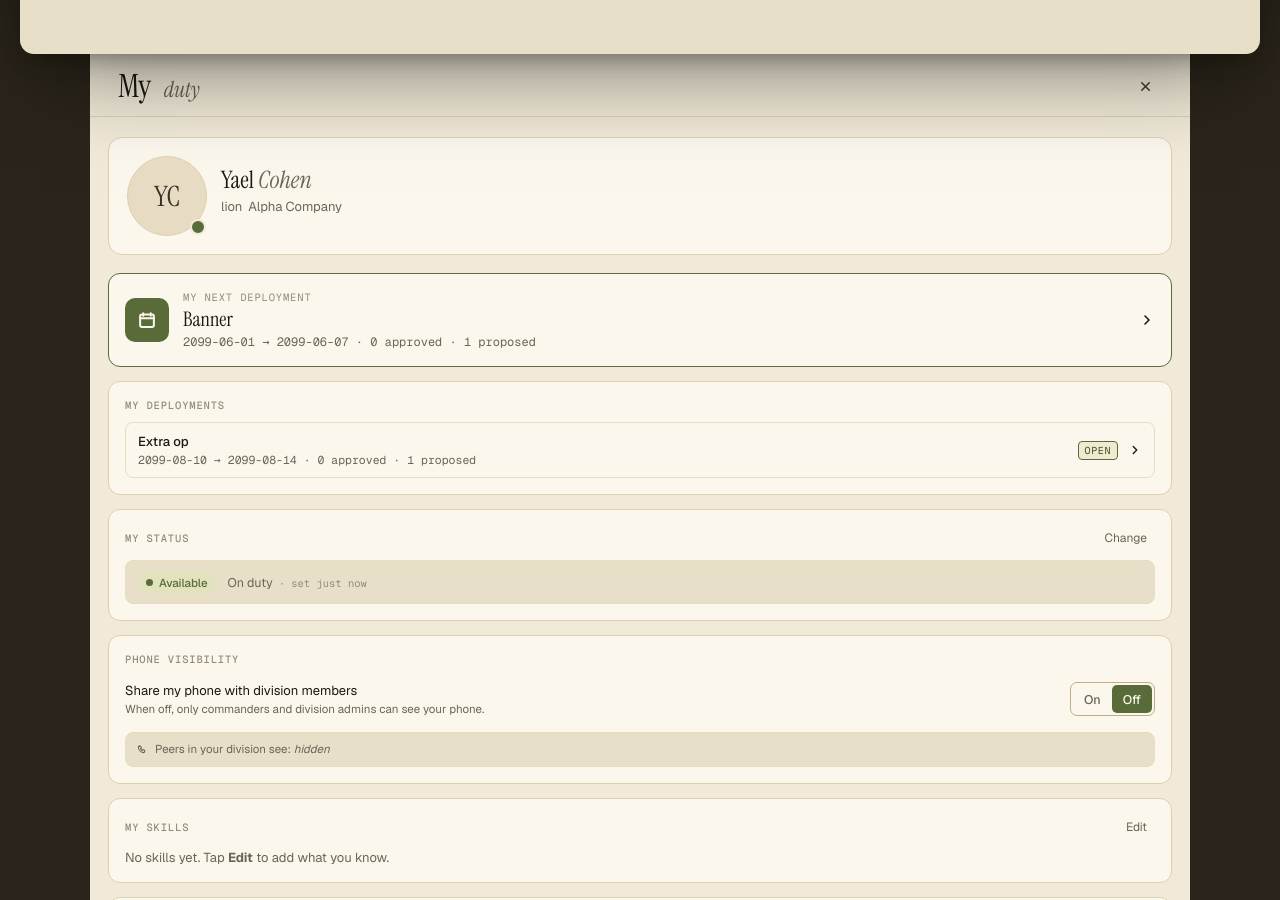
ReservistDashboard › Clicking a deployment row opens DeploymentPickScreen for that window
(page scrolled)
Click the button "Extra op" at (163, 442), box 125,422 -> 1155,478
(page scrolled)
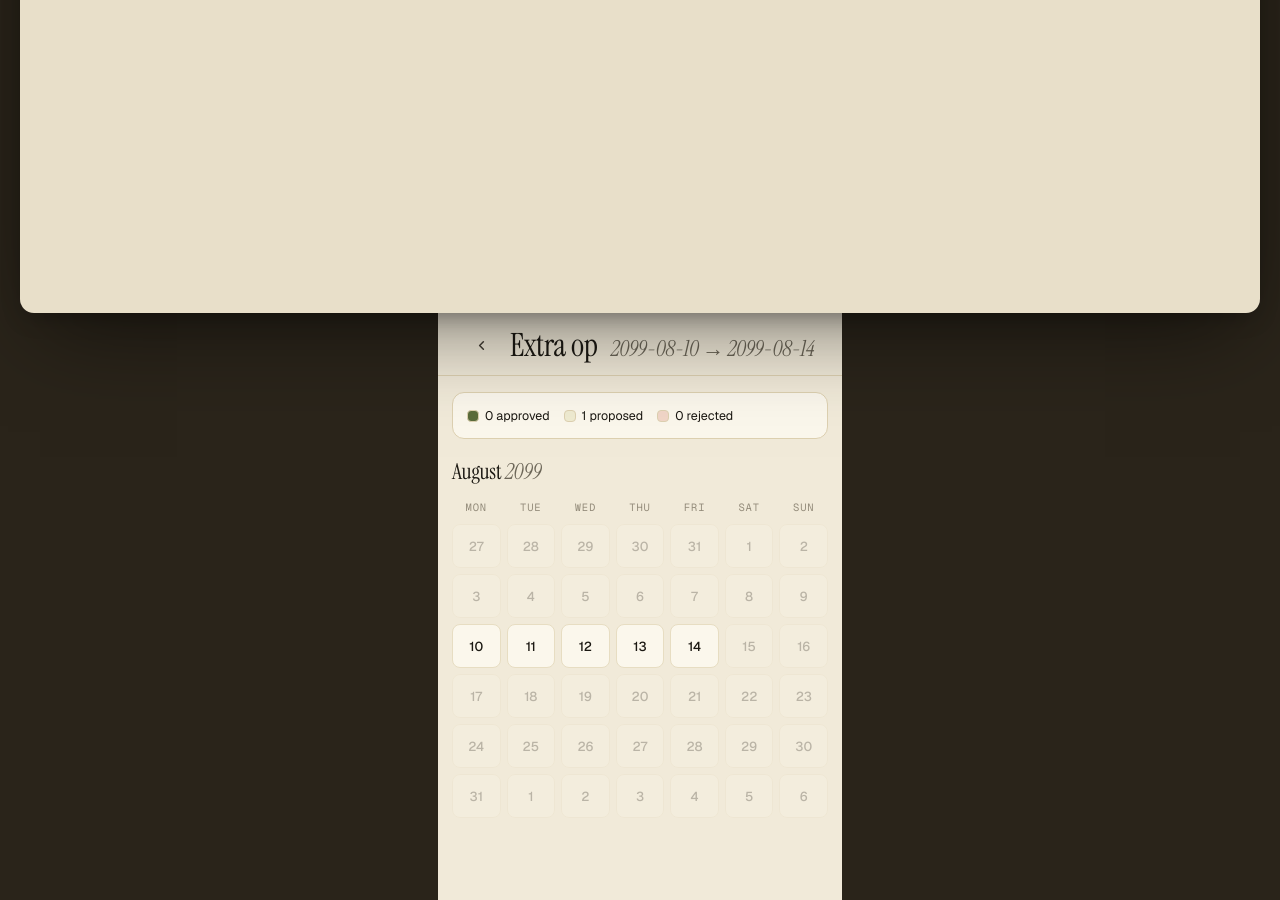
Expected: the heading "Extra op 2099-08-10 → 2099-08-14" is shown, 510,329 -> 814,361
